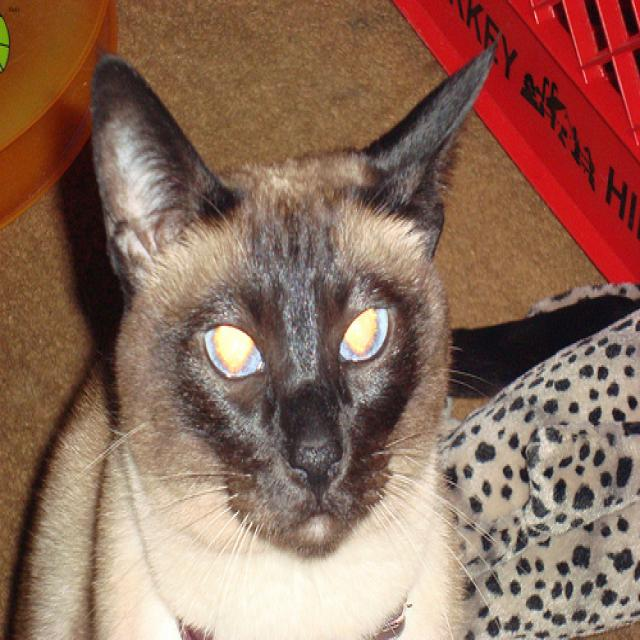cat: (88, 29, 500, 556)
